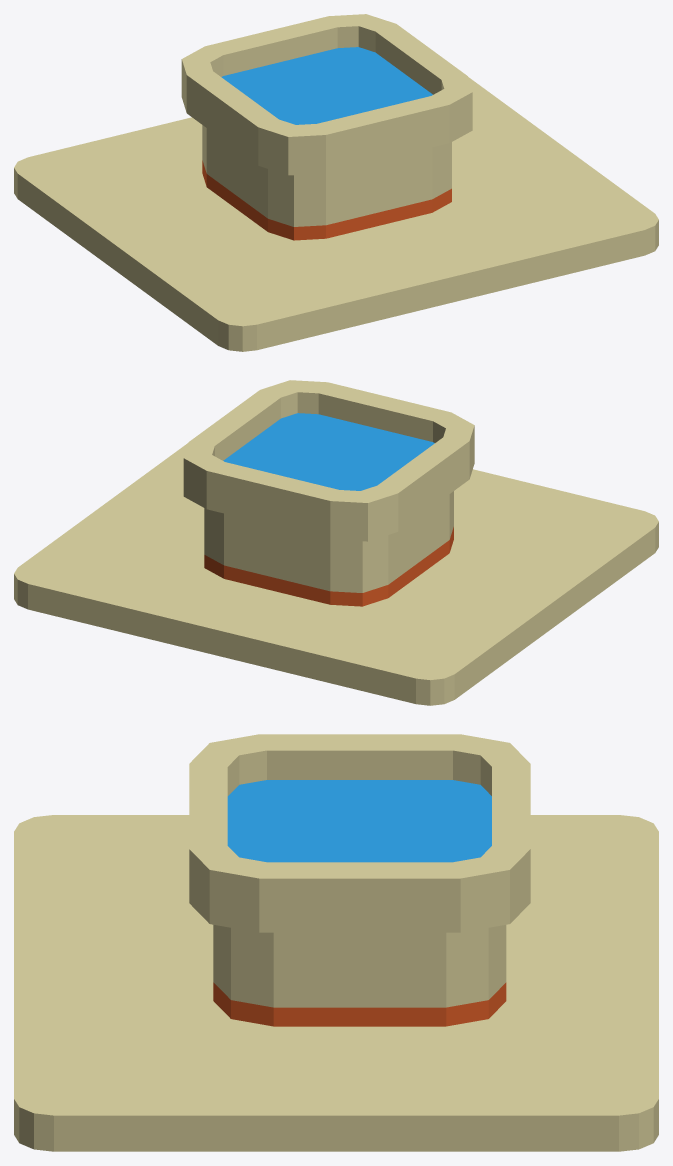
Rendered from house1_1.fbx.
3 views of the same model, one above another, from view 1: azimuth 30°, elevation 25°; view 2: azimuth 150°, elevation 25°; view 3: azimuth 270°, elevation 25° (orthographic). The views are drawn at different scales.
Parts seen in each view (by area): view 1: house1.1; view 2: house1.1; view 3: house1.1.
Part boxes in pixels (box(x1,y1,x2,y2)): house1.1: box(14, 14, 658, 351); house1.1: box(14, 380, 658, 705); house1.1: box(14, 734, 658, 1151).
Size of the model in its own units: 268 by 87.47 by 243.
